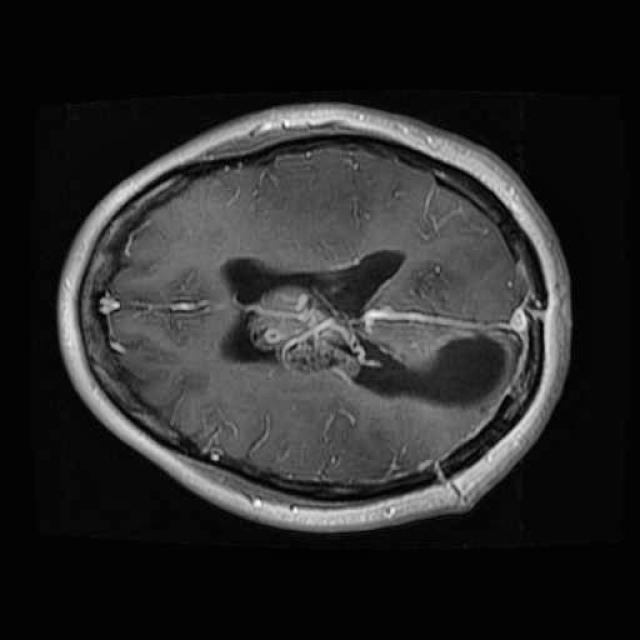Non-Tumor: (226, 266, 385, 401)
